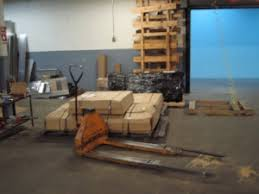Pallet Jack: (68, 64, 225, 178)
